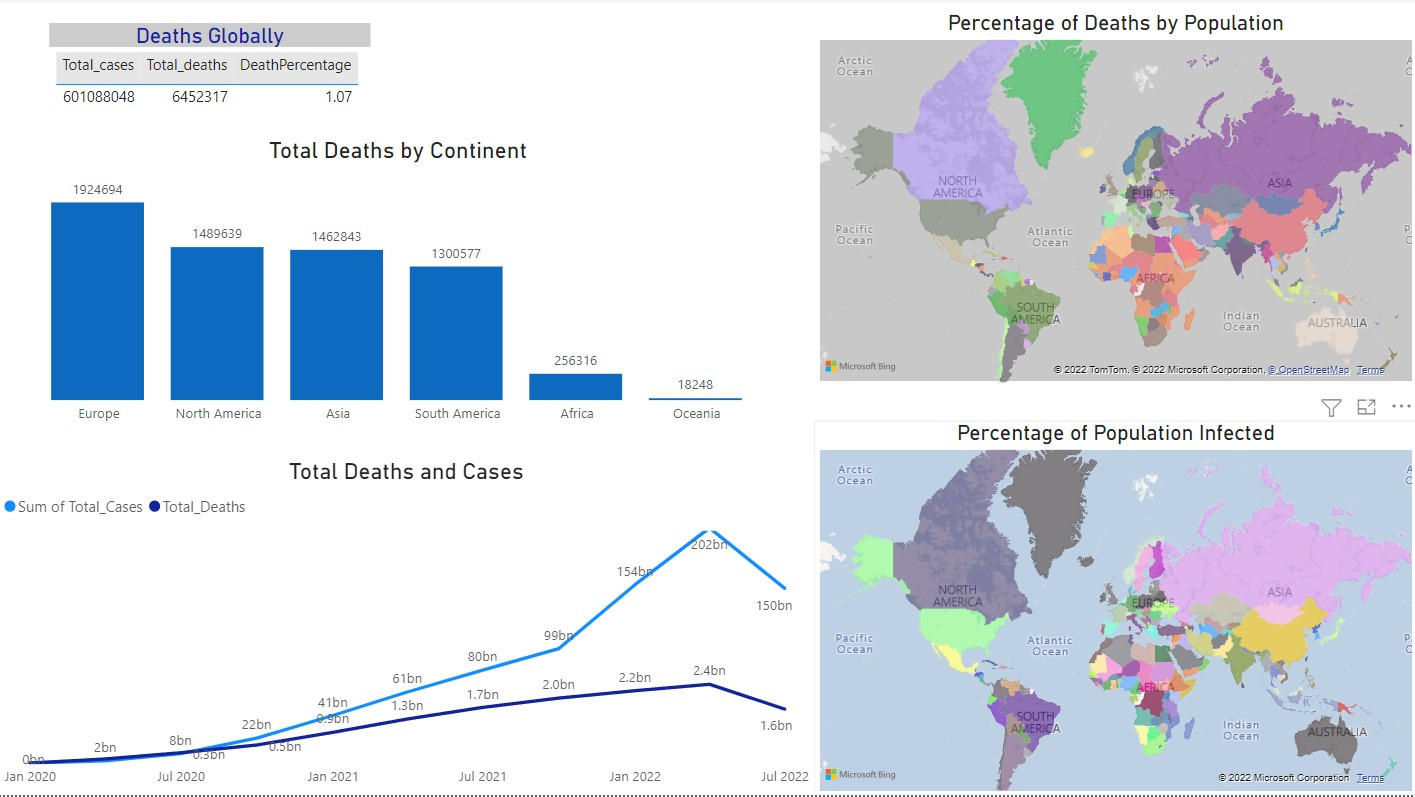

The dashboard page shown, as its layout file describes it:
{"tool":"powerbi","page":{"name":"Page 1","canvas":[1280,720],"ordinal":0},"visuals":[{"type":"tableEx","title":"Deaths Globally","fields":{"Values":["Overall Death Percentage.Total_cases","Sum(Overall Death Percentage.Total_deaths)","Overall Death Percentage.DeathPercentage"]},"box":[148.8,0,290,88.8],"z":0},{"type":"clusteredColumnChart","title":"Total Deaths by Continent","fields":{"Category":["Death by Continent.Location"],"Y":["Sum(Death by Continent.DeathCount)"]},"box":[0,125,721.2,267.5],"z":1},{"type":"filledMap","title":"Percentage of Population Infected","fields":{"Category":["Cases by Pop.Location"],"Series":["Cases by Pop.PercentPopulationInfected"]},"box":[736.2,381.2,543.8,338.8],"z":2},{"type":"filledMap","title":"Percentage of Deaths by Population","fields":{"Category":["Death by Pop.Location"],"Series":["Death by Pop.DeathPercentagebyPopulation"]},"box":[736.2,11.2,543.8,340],"z":3},{"type":"lineChart","title":"Total Deaths and Cases ","fields":{"Category":["Date wise data.Date.Variation.Date Hierarchy.Year","Date wise data.Date.Variation.Date Hierarchy.Quarter","Date wise data.Date.Variation.Date Hierarchy.Month","Date wise data.Date.Variation.Date Hierarchy.Day"],"Y":["Sum(Date wise data.Total_Cases)"],"Y2":["Sum(Date wise data.Total_Deaths)"]},"box":[0,415,736.2,305],"z":4}]}

Visuals, with their boxes in screenshot pixels (x1, y1, x2, y2), scaled from the page's 1280x720 canvas onto the 1415x797 screenshot:
"Deaths Globally" tableEx: [left=164, top=0, right=485, bottom=98]
"Total Deaths by Continent" clusteredColumnChart: [left=0, top=138, right=797, bottom=434]
"Percentage of Population Infected" filledMap: [left=814, top=422, right=1414, bottom=796]
"Percentage of Deaths by Population" filledMap: [left=814, top=12, right=1414, bottom=389]
"Total Deaths and Cases " lineChart: [left=0, top=459, right=814, bottom=796]
